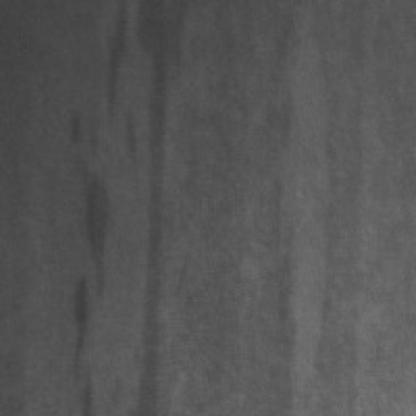inclusion: (114, 0, 170, 410), (243, 21, 300, 412), (54, 110, 110, 379)
